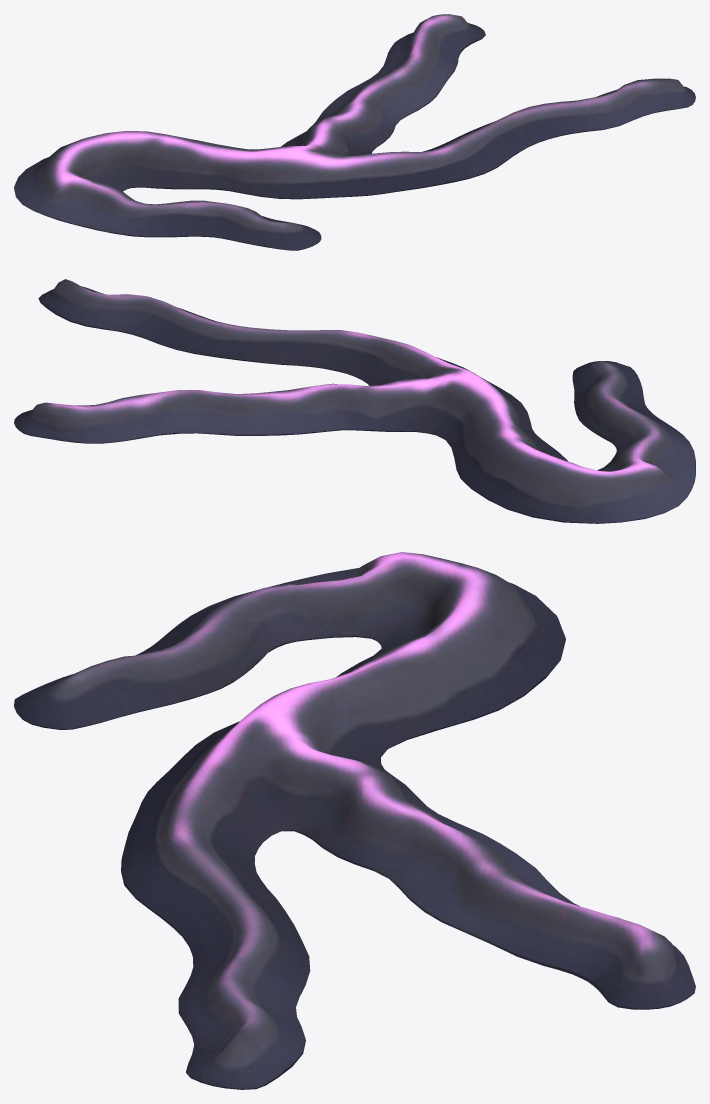
Rendered from caos_sts_chaosgrowth_02c_v35.glb.
3 views of the same model, one above another, from view 1: azimuth 30°, elevation 25°; view 2: azimuth 150°, elevation 25°; view 3: azimuth 270°, elevation 25° (orthographic). The views are drawn at different scales.
Parts seen in each view (by area): view 1: caos_sts_chaosgrowth_02c; view 2: caos_sts_chaosgrowth_02c; view 3: caos_sts_chaosgrowth_02c.
Part boxes in pixels (bbox=[...]): caos_sts_chaosgrowth_02c: bbox=[14, 14, 695, 250]; caos_sts_chaosgrowth_02c: bbox=[14, 279, 695, 523]; caos_sts_chaosgrowth_02c: bbox=[14, 552, 695, 1089].
Size of the model in its own units: 18.58 by 0.9109 by 10.21.
Materials: 1 (1 with a texture image).
